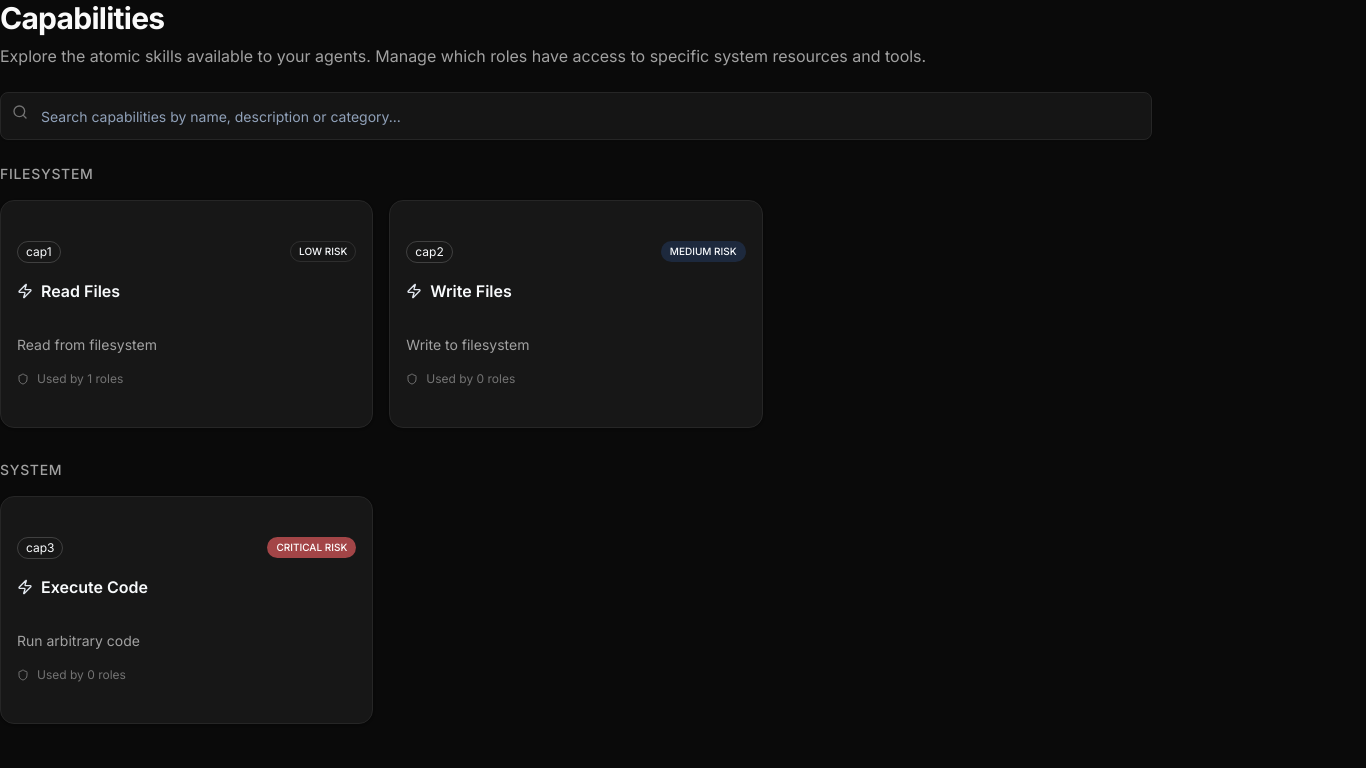
CapabilitiesPage › Interactions › should open sheet when clicking a capability
What coordinates should you click on to do the following:
click the text "Execute Code"
I would click on:
 (82, 587)
Its box is [17,577,148,597].
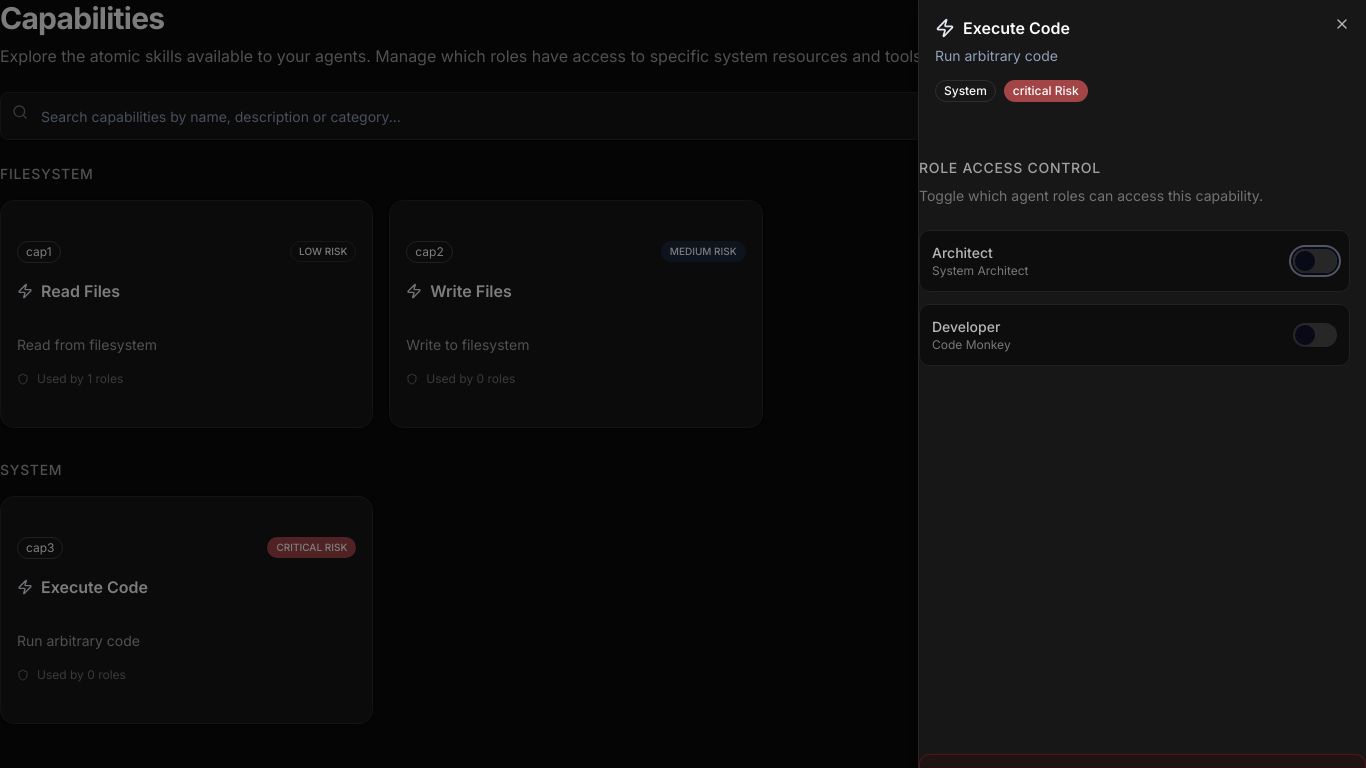
Now the dialog is shown, box [918,0,1365,767]
Now the heading "Execute Code" is shown, box [935,18,1070,38]
